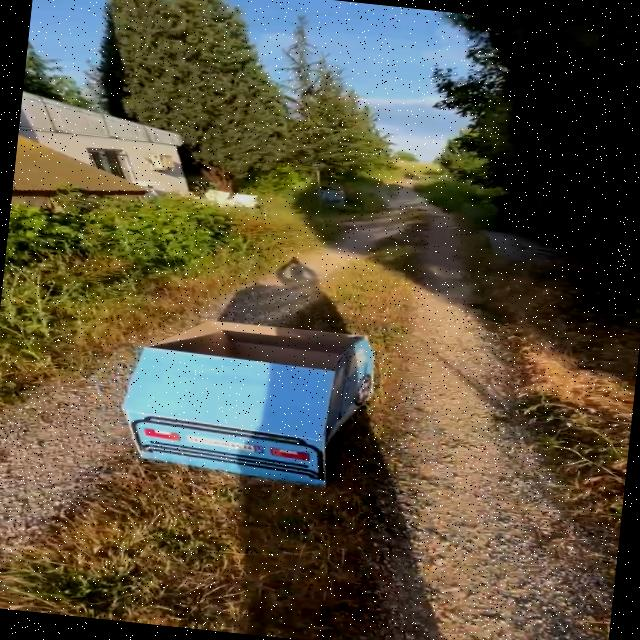blue_car: (75, 272, 442, 514)
